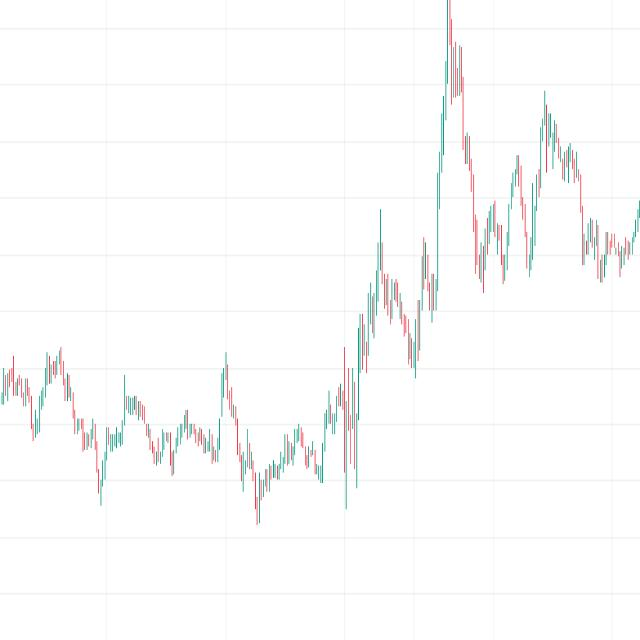Triple-Bottom: (574, 197, 640, 283)
